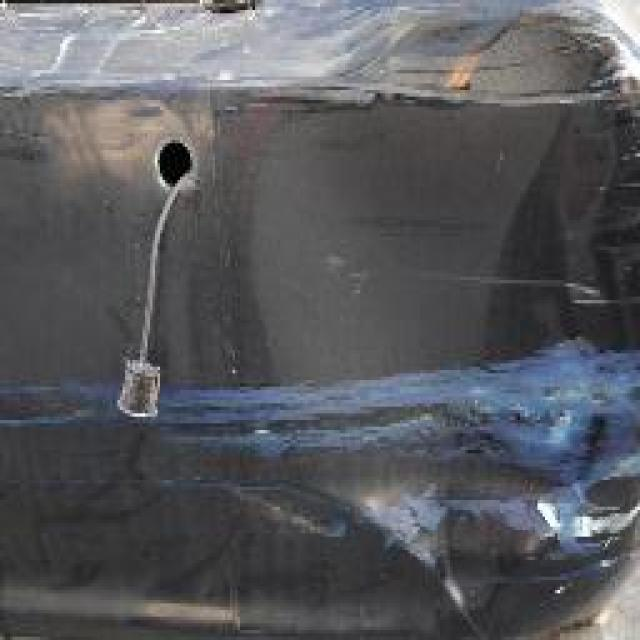Bumper: (5, 3, 618, 620)
